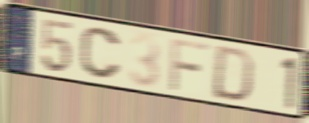1: (278, 55, 299, 112)
3: (129, 31, 163, 89)
5: (39, 16, 75, 74)
C: (78, 25, 124, 82)
D: (209, 44, 257, 104)
F: (168, 36, 210, 93)
